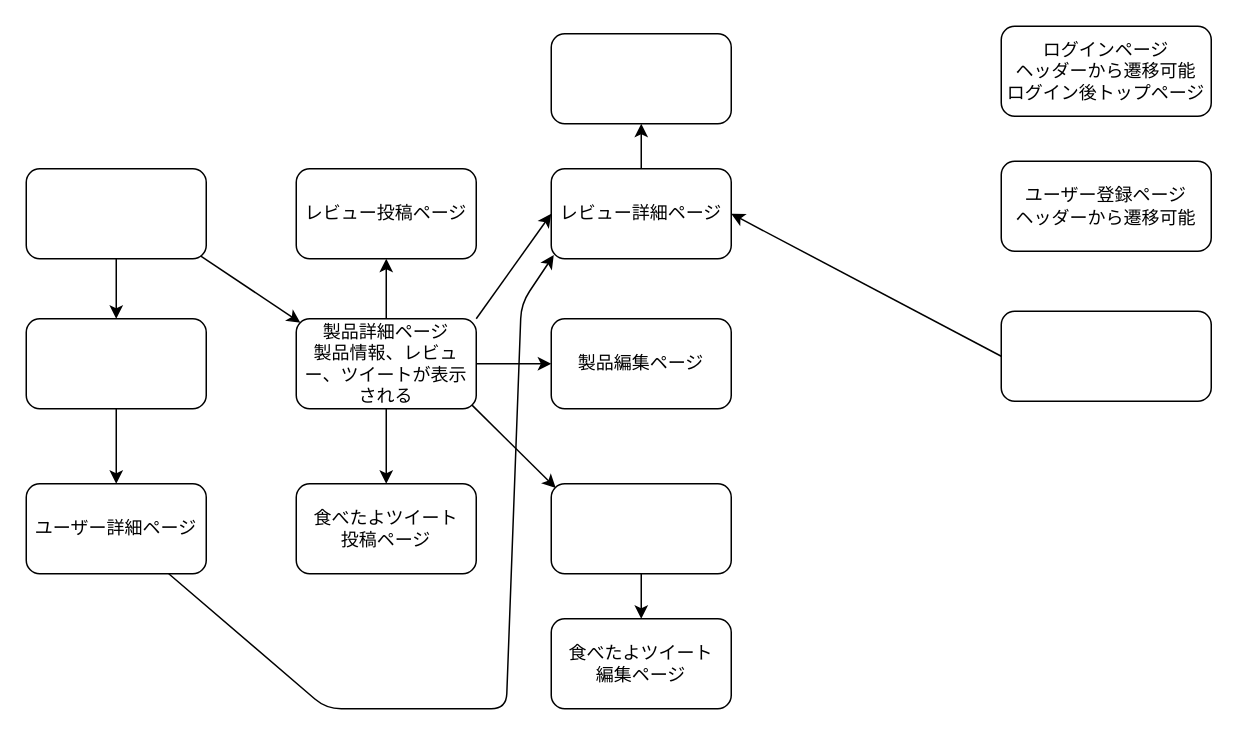
The diagram is 1238 pixels wide and 747 high, and some of its shapes have lost their labels. Here are the shapes that lost their labels. From the top down, the centre of each, then its label:
At [640,78]: "レビュー編集ページ".
At [115,213]: "トップページ (製品一覧)".
At [115,363]: "製品投稿ページ".
At [1105,355]: "マイページ ヘッダーから遷移可能".
At [640,528]: "食べたよツイート 詳細ページ".
